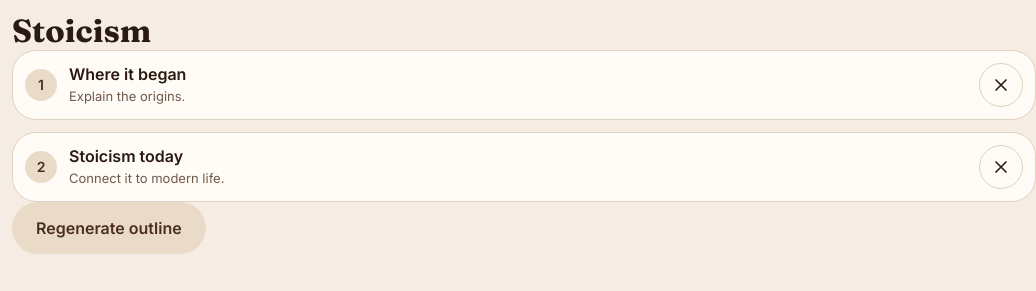
Test: OutlineView › shows an error and keeps the chapters when removal fails
Click the button named "Remove chapter" in the row of "Where it began": (1001, 85) [979,63,1023,107]
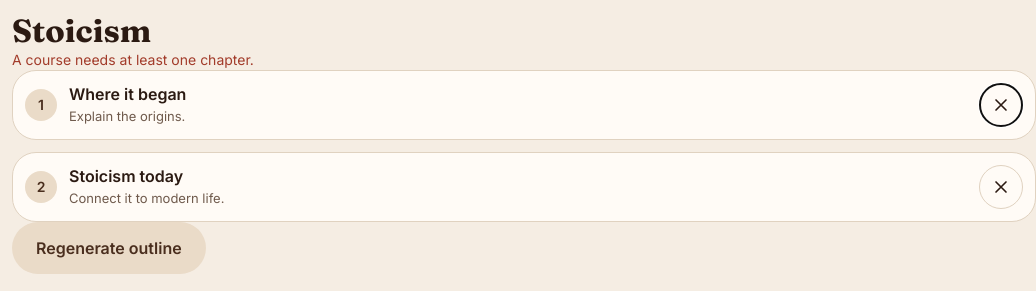
Expected: the text "Where it began" is shown, [69,84,186,104]
Expected: the message reads "A course needs at least one chapter.", [12,51,254,68]
